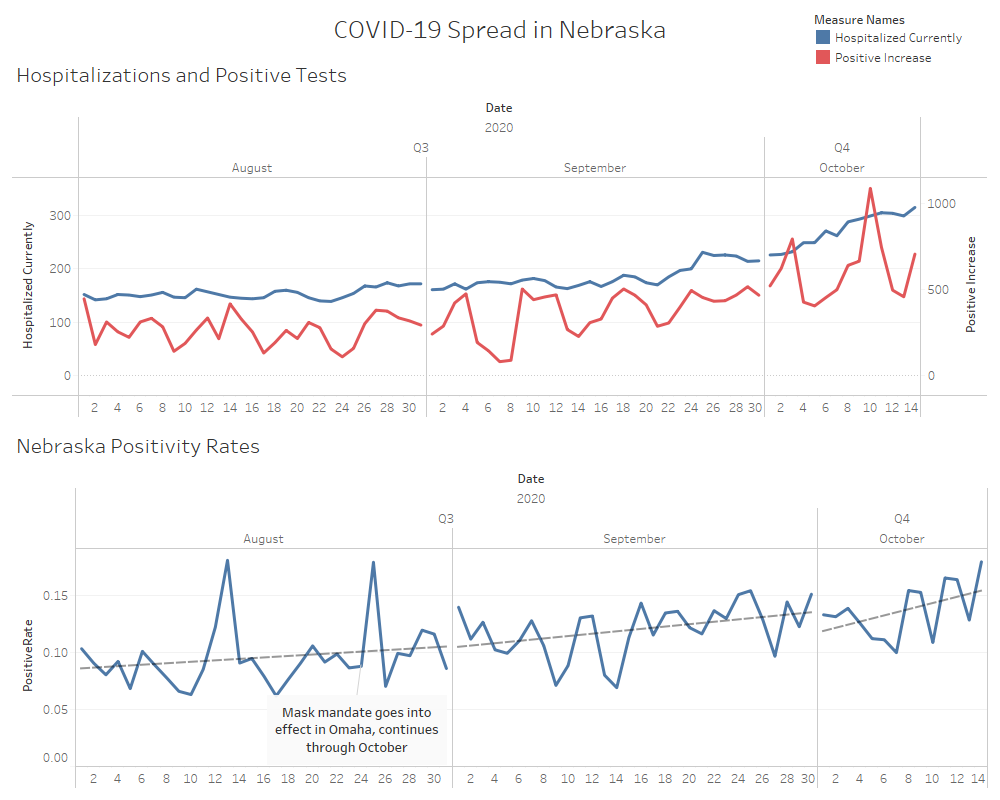

Layout of this report page (visuals, bound fields, positions):
{"tool":"tableau","page":{"name":"Dashboard 1","canvas":[1000,800],"ordinal":0},"visuals":[{"type":"worksheet","box":[0,0,1000,800]},{"type":"worksheet","param":"vert","box":[8,8,984,784]},{"type":"worksheet","box":[8,8,984,42]},{"type":"worksheet","title":"Sheet 1","mark":"Automatic","rows":["hospitalizedCurrently","positiveIncrease"],"cols":["date","date","date","date"],"param":"[federated.0315bco04643e0118f23j0ic19du].[:Measure Names]","box":[813,9,154,58]},{"type":"worksheet","param":"horz","box":[8,50,984,742]},{"type":"worksheet","box":[8,50,984,742]},{"type":"worksheet","title":"Sheet 1","mark":"Automatic","rows":["hospitalizedCurrently","positiveIncrease"],"cols":["date","date","date","date"],"box":[8,50,984,371]},{"type":"worksheet","title":"Sheet 3","mark":"Automatic","rows":["Calculation_1126744368580329472"],"cols":["date","date","date","date"],"box":[8,421,984,371]}]}

Visuals, with their boxes in screenshot pixels (x1, y1, x2, y2), scaled from the page's 1000x800 canvas onto the 1000x800 screenshot:
worksheet: pyautogui.locateOnScreen(0, 0, 999, 799)
worksheet: pyautogui.locateOnScreen(8, 8, 992, 792)
worksheet: pyautogui.locateOnScreen(8, 8, 992, 50)
"Sheet 1" worksheet: pyautogui.locateOnScreen(813, 9, 967, 67)
worksheet: pyautogui.locateOnScreen(8, 50, 992, 792)
worksheet: pyautogui.locateOnScreen(8, 50, 992, 792)
"Sheet 1" worksheet: pyautogui.locateOnScreen(8, 50, 992, 421)
"Sheet 3" worksheet: pyautogui.locateOnScreen(8, 421, 992, 792)
